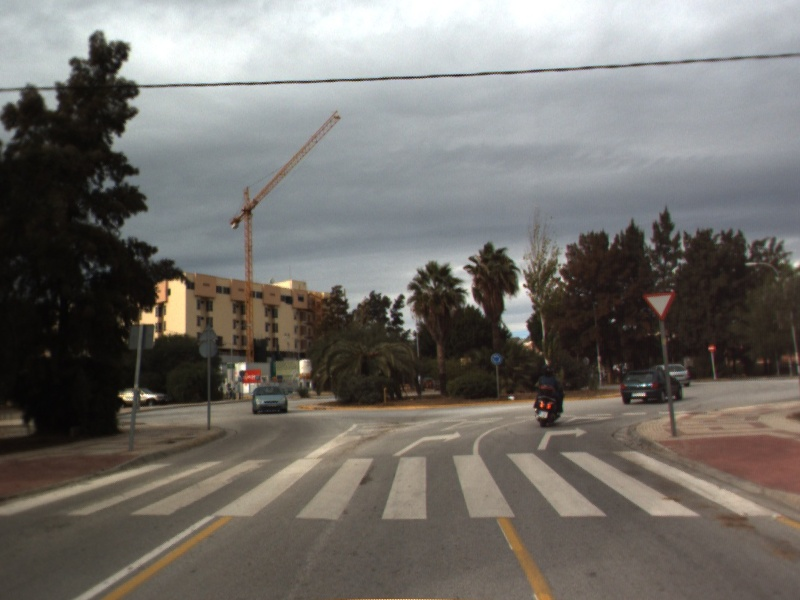RIGHT: (390, 429, 463, 458), (535, 425, 589, 452)
